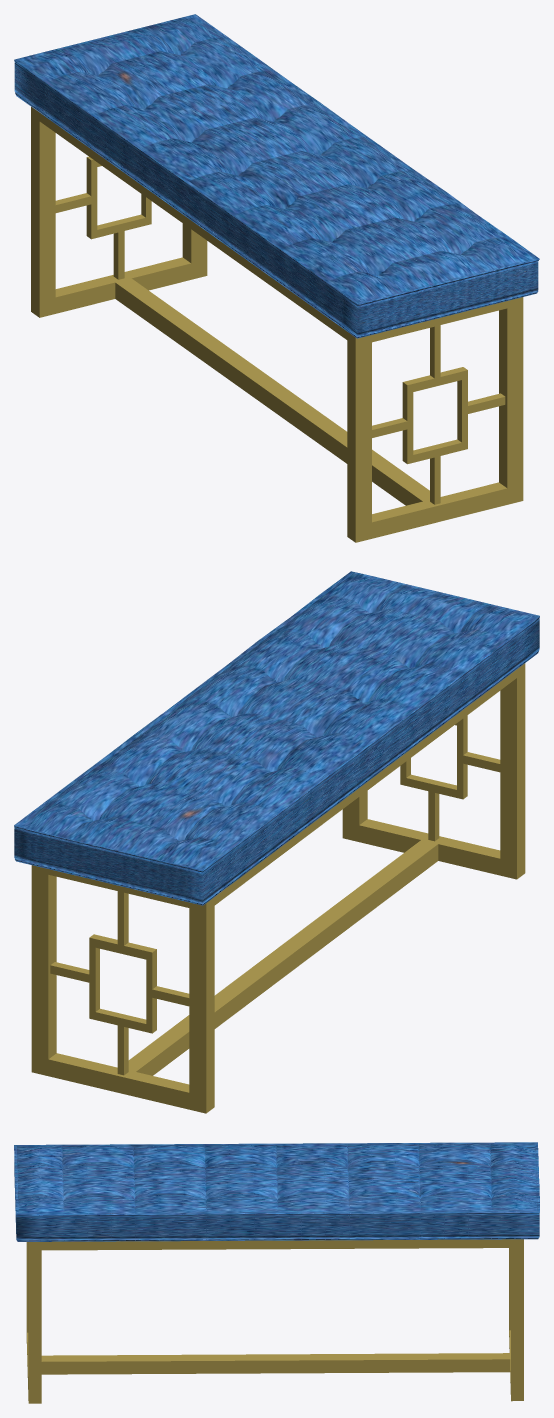
File: chair1.gltf
3 views of the same model, one above another, from view 1: azimuth 30°, elevation 25°; view 2: azimuth 150°, elevation 25°; view 3: azimuth 270°, elevation 25° (orthographic). The views are drawn at different scales.
Visible parts, largest first — view 1: Cube, Cube.001; view 2: Cube, Cube.001; view 3: Cube, Cube.001.
Part boxes in pixels (<box>): Cube: <box>14,14,539,338</box>; Cube.001: <box>31,107,523,542</box>; Cube: <box>14,571,539,905</box>; Cube.001: <box>31,663,525,1113</box>; Cube: <box>14,1142,539,1241</box>; Cube.001: <box>26,1239,523,1403</box>.
Size of the model in its own units: 0.2167 by 0.2732 by 0.6642.
2 materials, 1 textured.
